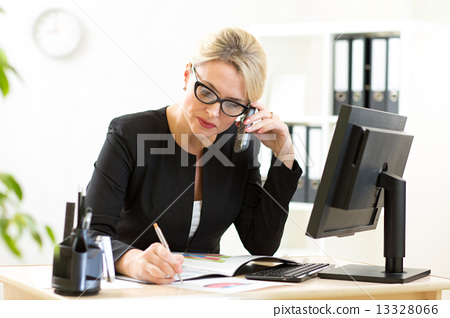phone: (235, 97, 268, 154)
talk: (179, 69, 296, 173)
